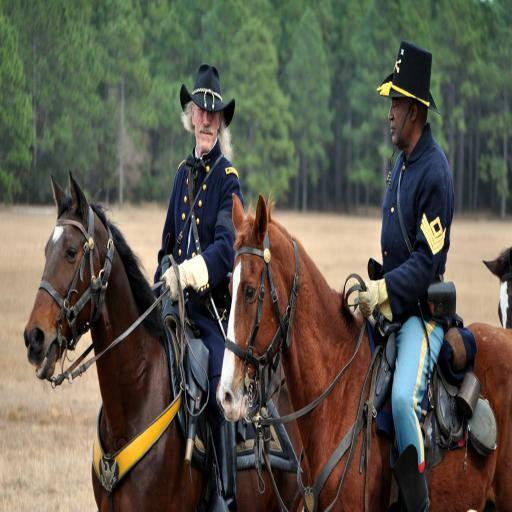horse: (22, 164, 308, 512), (214, 194, 512, 512)
